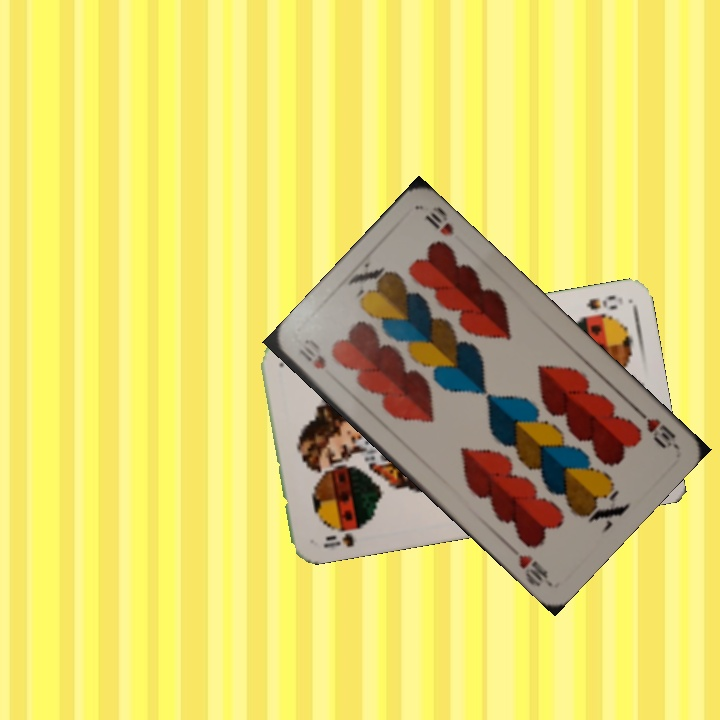H10: (631, 404, 679, 452), (294, 344, 329, 372)
SO: (319, 529, 357, 551), (583, 291, 620, 313)
